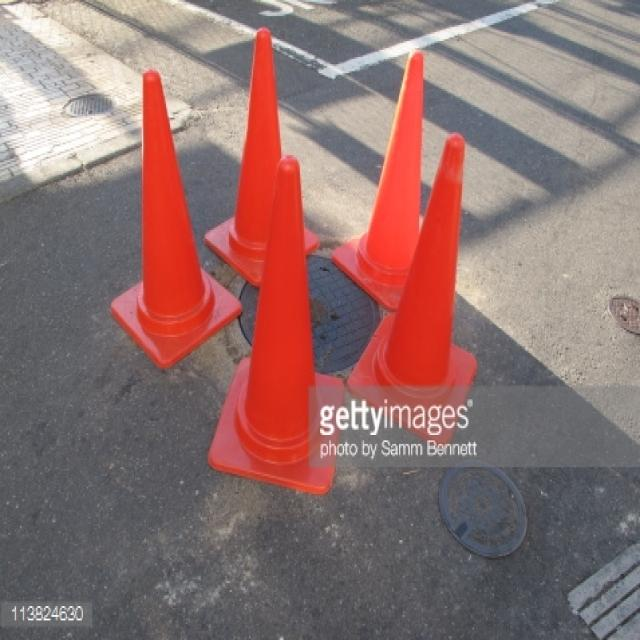cone: (206, 155, 342, 489), (107, 69, 233, 362), (382, 130, 463, 396), (359, 48, 427, 309), (218, 25, 277, 274)
